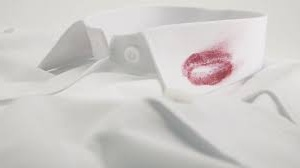lipstick: (180, 49, 231, 83)
